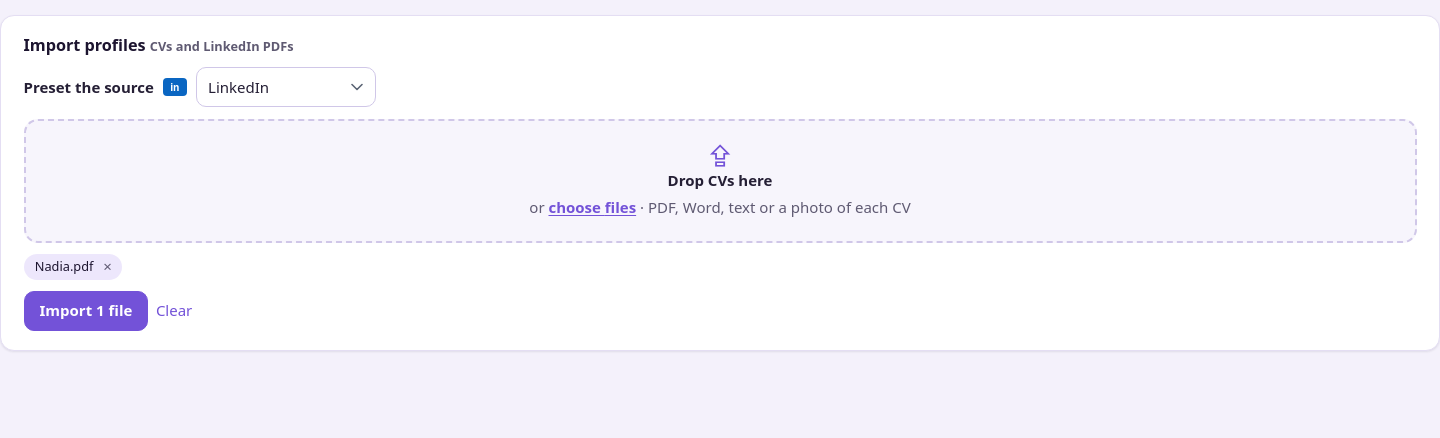
Test: importing CVs and LinkedIn PDFs › keeps the staged Outlook file when creating an import fails
Click the button "Import 1 file". click: [86, 311]
box: [24,291,148,331]
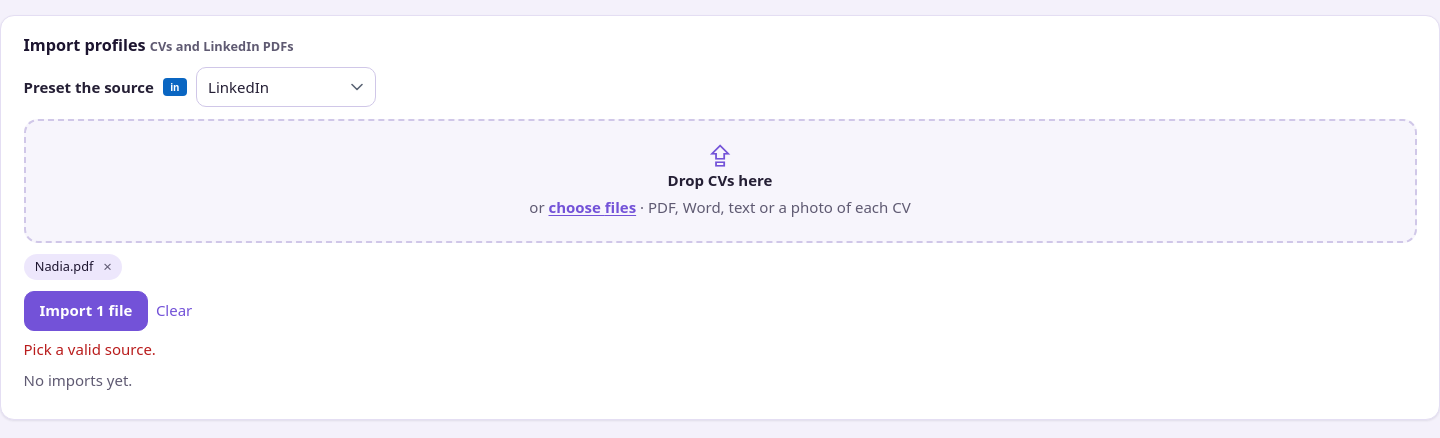
Check: the list item "Nadia.pdf" is shown, box [35,257,93,275]
Check: the text "Pick a valid source." is shown, box [24,339,156,359]
